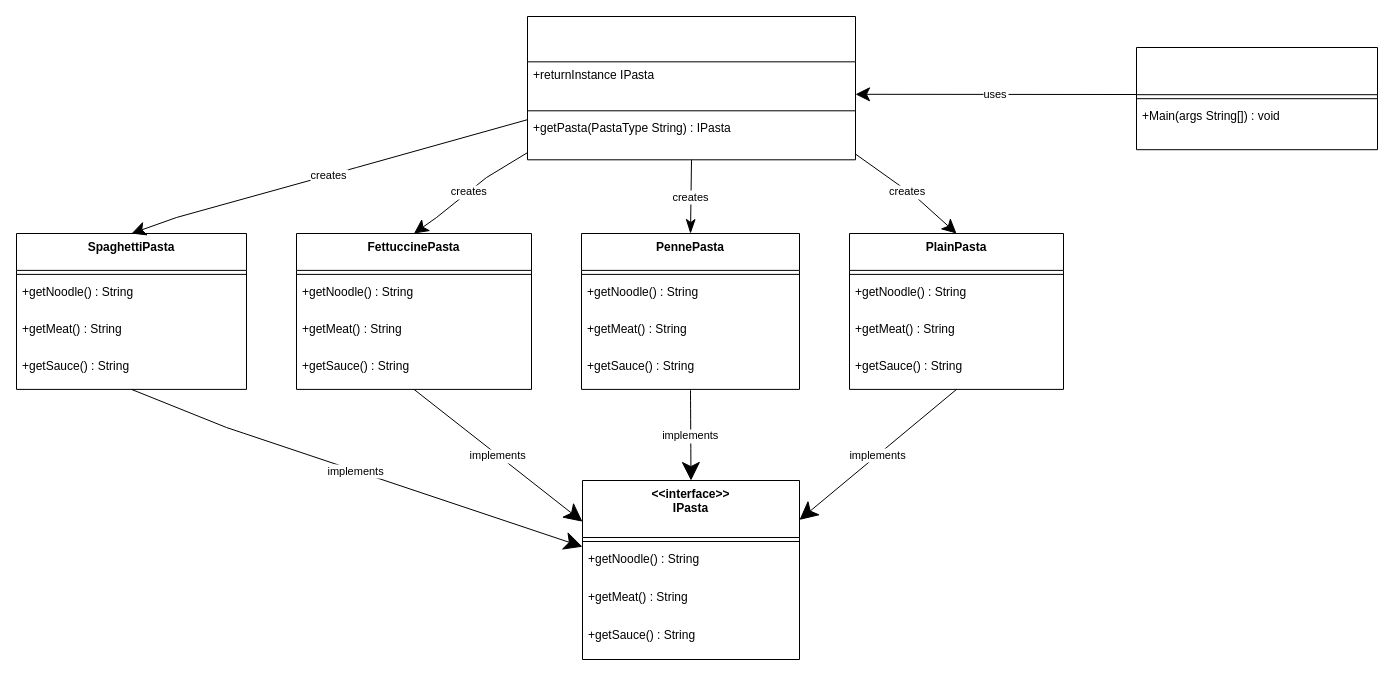
This 1394x676 diagram has some shape labels left out. Each missing label, with the box of its shape:
PastaFactory: (526, 16, 856, 160)
Program: (1136, 46, 1378, 150)
